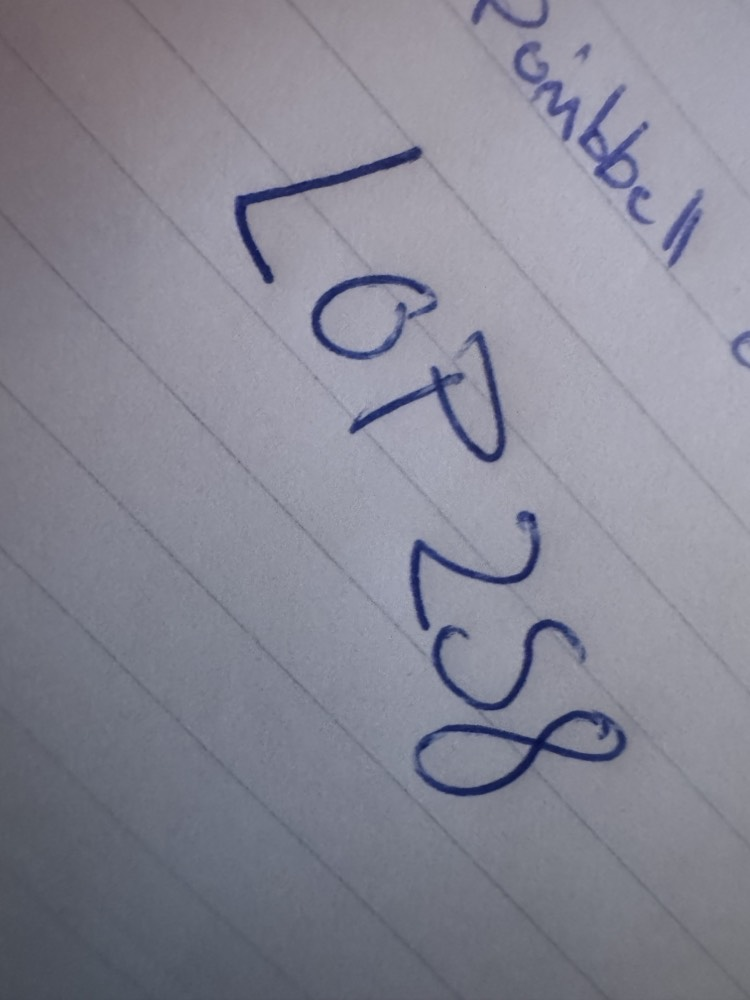OCR_AREA: (209, 202, 439, 868)
